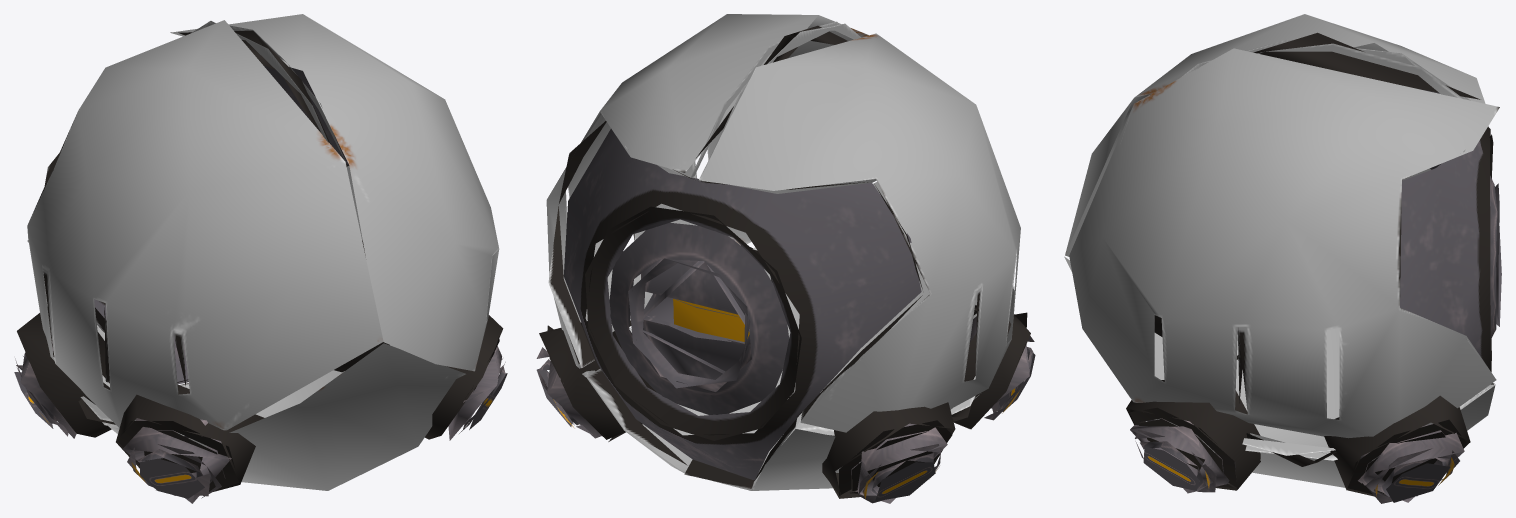
Rendered from robot_grunt.glb.
3 views of the same model, side by side, from view 1: azimuth 30°, elevation 25°; view 2: azimuth 150°, elevation 25°; view 3: azimuth 270°, elevation 25° (orthographic).
Parts seen in each view (by area): view 1: robot_grunt; view 2: robot_grunt; view 3: robot_grunt.
Boxes of the visible parts, x1,y1,x2,y2 form: robot_grunt: [14, 14, 507, 503]; robot_grunt: [536, 14, 1035, 503]; robot_grunt: [1064, 14, 1501, 503].
Bounding box in the file's own units: 0.7605 × 0.75 × 0.7005.
1 material, 1 textured.
